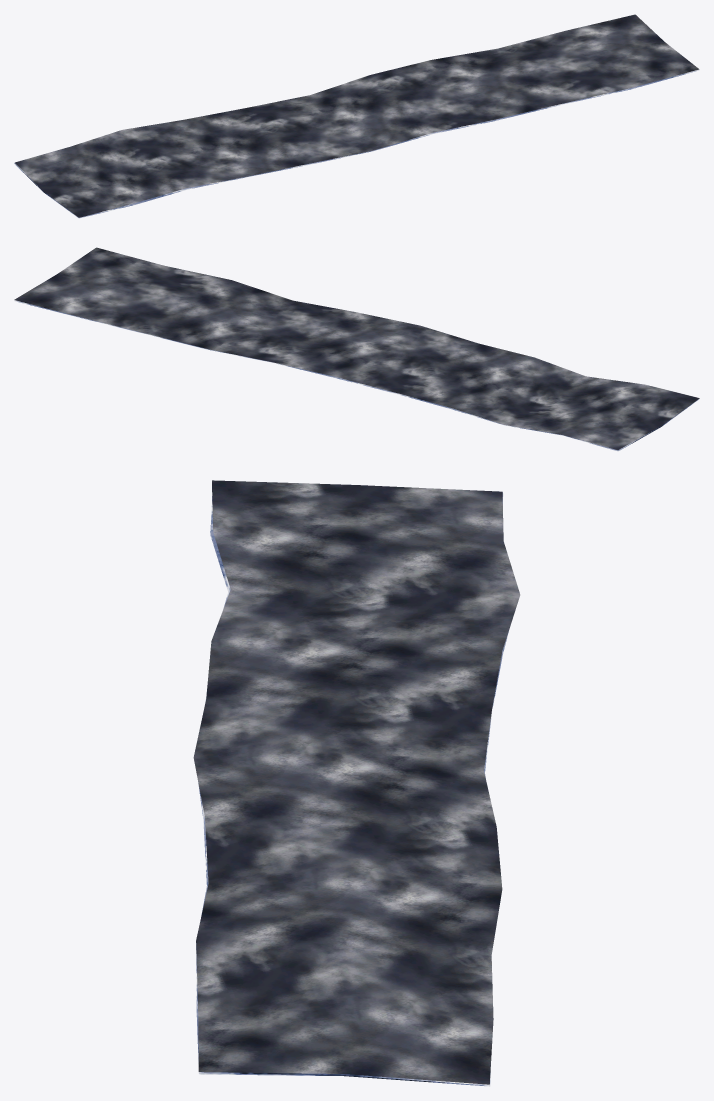
File: LONE_MOUNTAIN_WATERFALLS_MAINWATER_TREASURY06.fbx
The picture shows the model from 3 angles, top to bottom: view 1: azimuth 30°, elevation 25°; view 2: azimuth 150°, elevation 25°; view 3: azimuth 270°, elevation 25°; orthographic projection. The views are drawn at different scales.
Parts seen in each view (by area): view 1: LONE_MOUNTAIN_WATERFALLS_MAINWATER_TREASURY06; view 2: LONE_MOUNTAIN_WATERFALLS_MAINWATER_TREASURY06; view 3: LONE_MOUNTAIN_WATERFALLS_MAINWATER_TREASURY06.
Part boxes in pixels (box(x1,y1,x2,y2)): LONE_MOUNTAIN_WATERFALLS_MAINWATER_TREASURY06: box(14, 14, 699, 218); LONE_MOUNTAIN_WATERFALLS_MAINWATER_TREASURY06: box(14, 247, 699, 451); LONE_MOUNTAIN_WATERFALLS_MAINWATER_TREASURY06: box(193, 480, 520, 1086).
Size of the model in its own units: 151318 by 1562 by 34728.
Materials: 2 (2 with a texture image).
